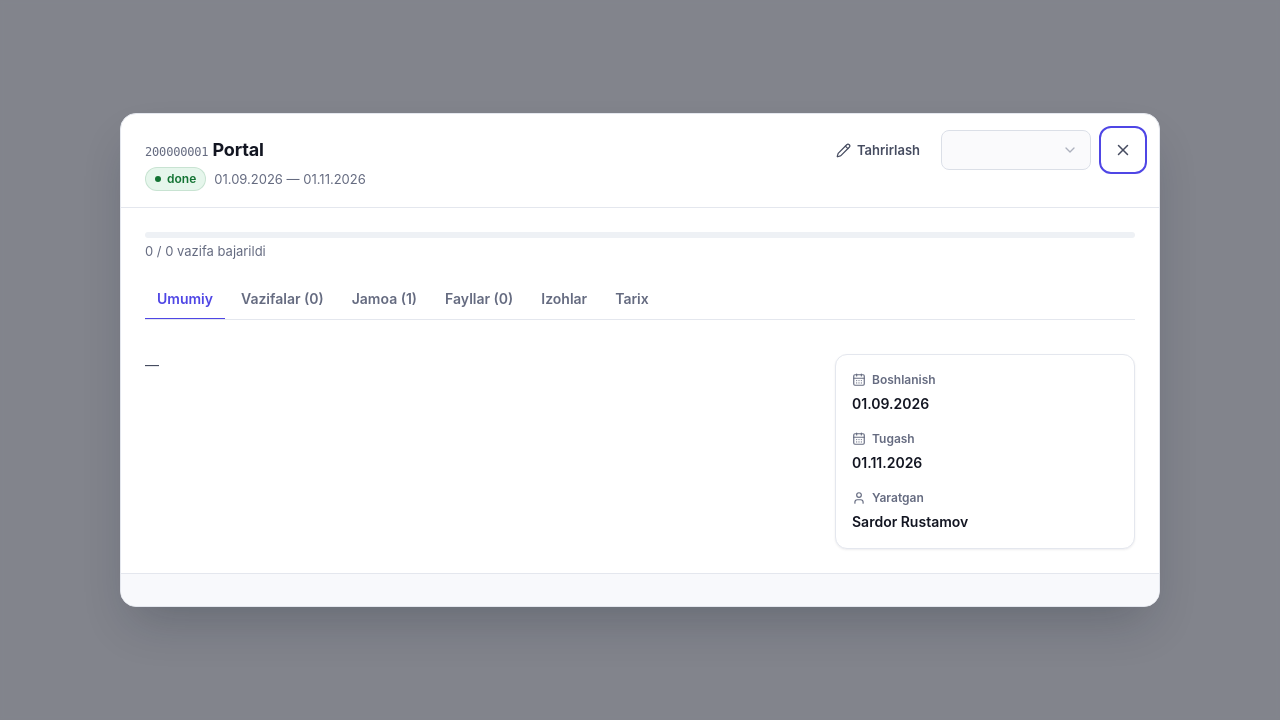
it: ProjectModal — Jamoa › done loyihada vazifa qo'shish va berish yashiriladi
What coordinates should you click on to do the following:
click the tab "Jamoa (1)"
I would click on:
 (384, 300)
Its box is [340,280,429,320].
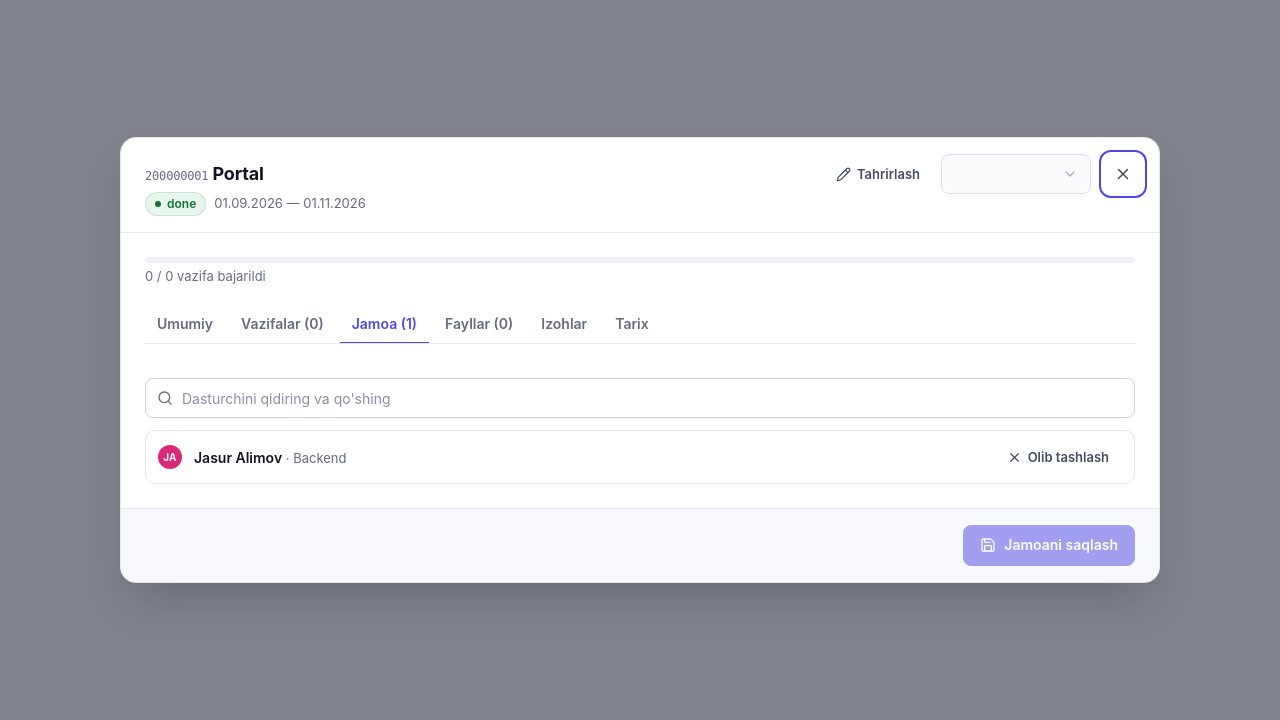
Check: the text "Jasur Alimov" is shown, box [194,449,282,466]
